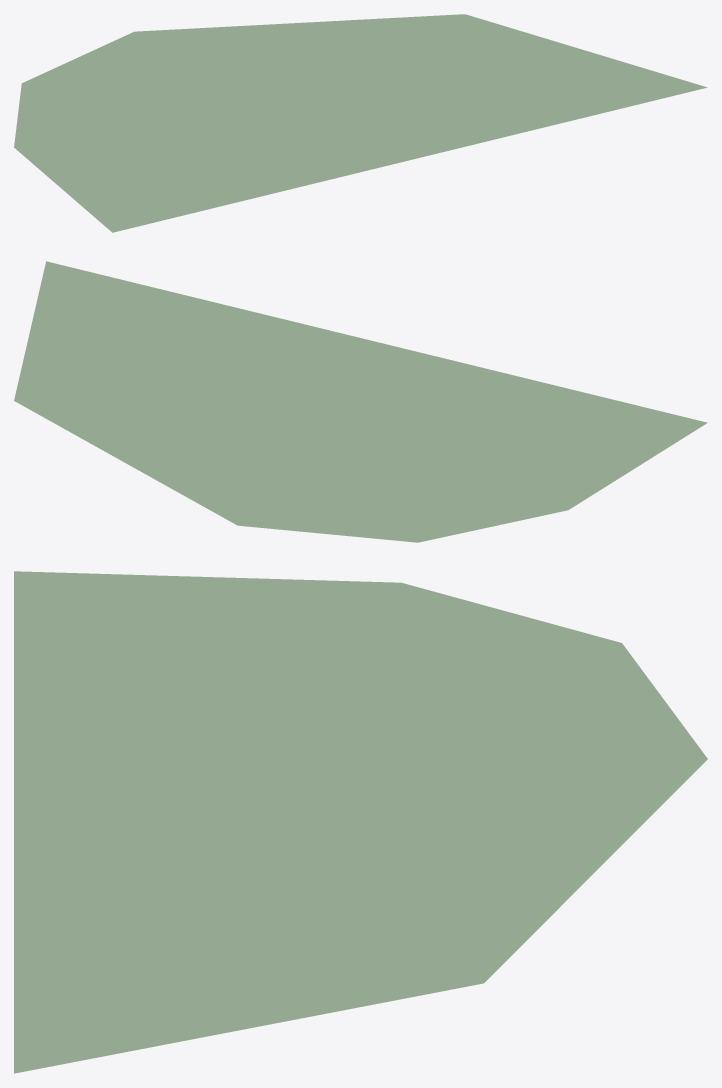
The model's file is overview-known--4_6.glb.
The picture shows the model from 3 angles, top to bottom: view 1: azimuth 30°, elevation 25°; view 2: azimuth 150°, elevation 25°; view 3: azimuth 270°, elevation 25°; orthographic projection. The views are drawn at different scales.
Size of the model in its own units: 66.02 by 0 by 38.54.
